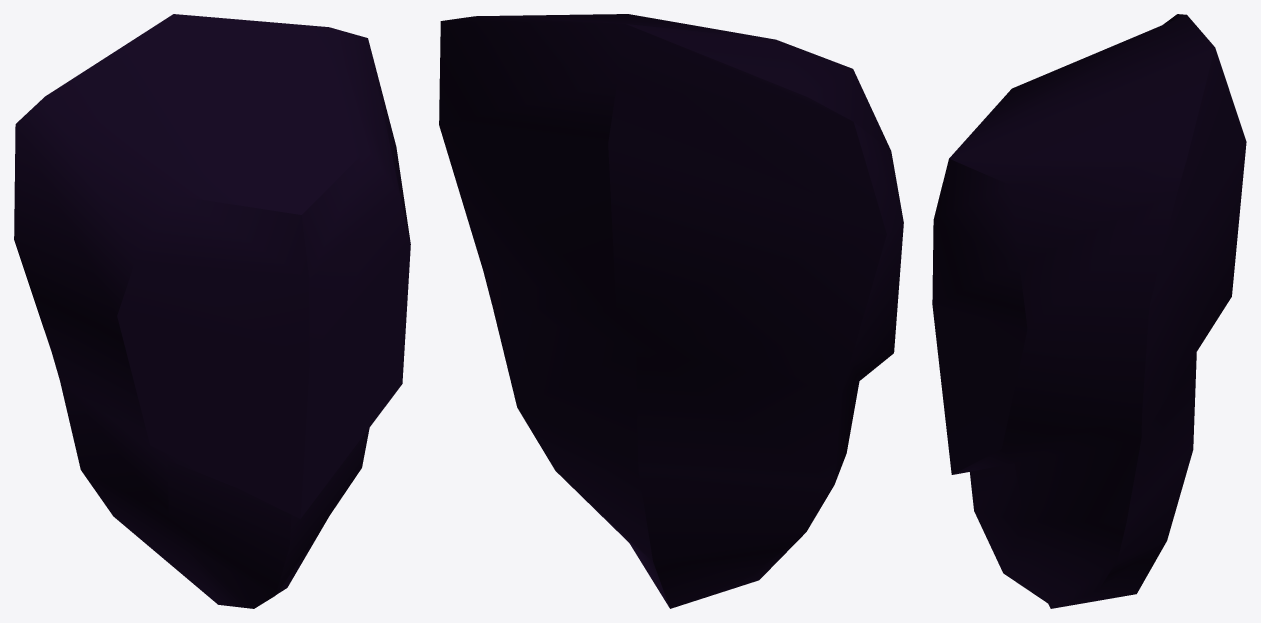
File: Torso_2.fbx
3 renders of one model, left to right at view 1: azimuth 30°, elevation 25°; view 2: azimuth 150°, elevation 25°; view 3: azimuth 270°, elevation 25°, orthographic. The views are drawn at different scales.
Visible parts, largest first — view 1: Torso_2; view 2: Torso_2; view 3: Torso_2.
Boxes of the visible parts, left/top/right/bottom form: Torso_2: left=14, top=14, right=410, bottom=608; Torso_2: left=439, top=14, right=903, bottom=608; Torso_2: left=932, top=14, right=1246, bottom=608.
Size of the model in its own units: 117 by 157 by 80.4.
